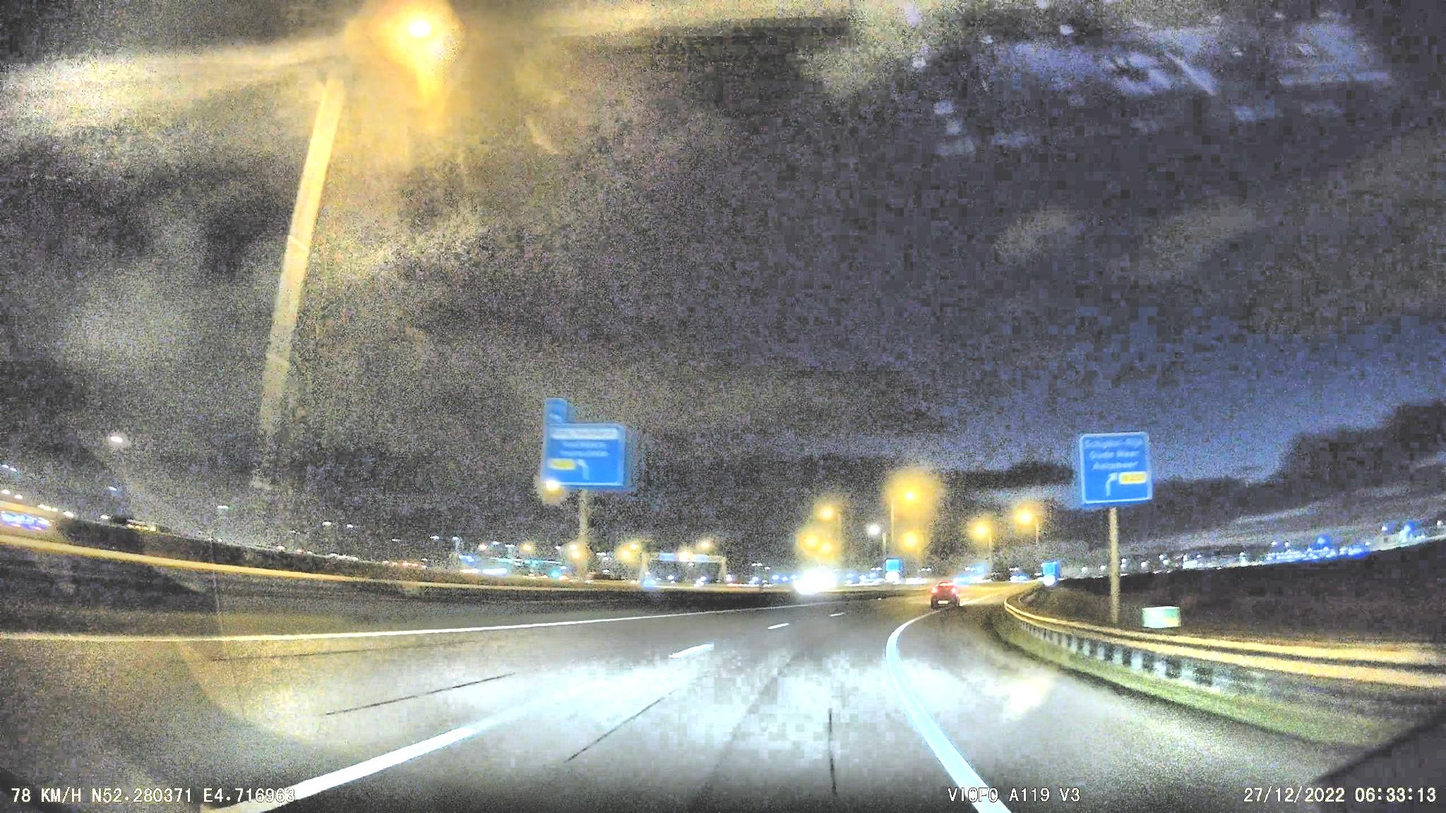Roads: (0, 599, 1327, 813)
